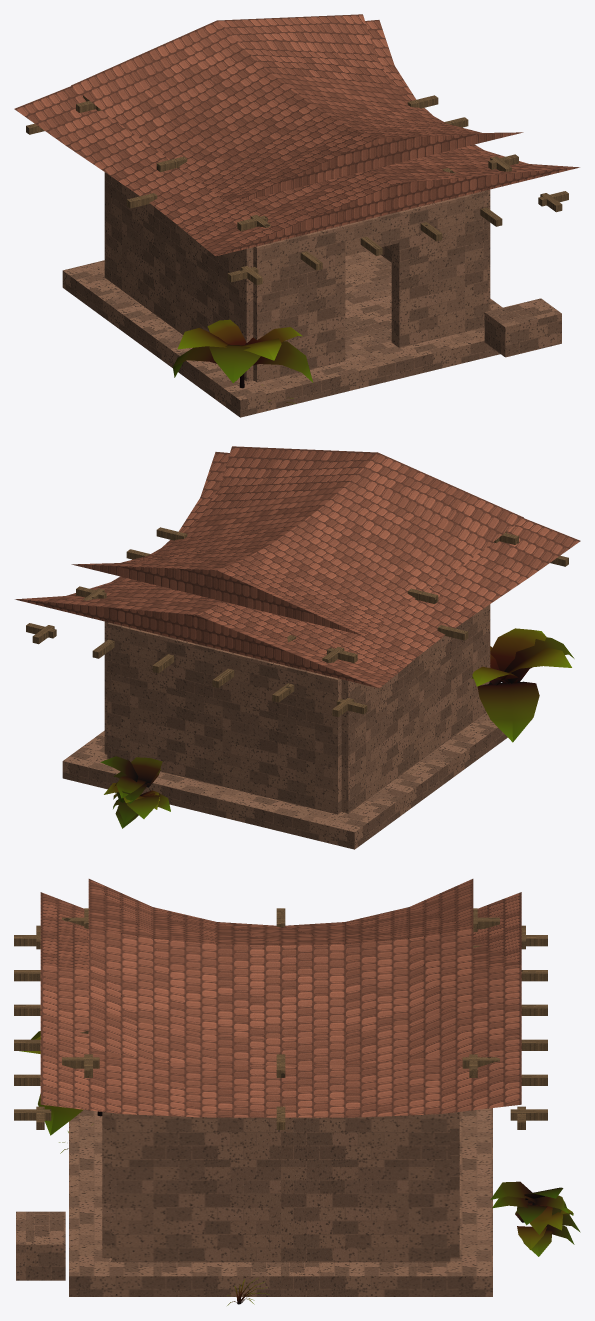
The model's file is chua_01.glb.
3 renders of one model, top to bottom at view 1: azimuth 30°, elevation 25°; view 2: azimuth 150°, elevation 25°; view 3: azimuth 270°, elevation 25°, orthographic. The views are drawn at different scales.
Visible parts, largest first — view 1: chua_01, chua_01_veg_01_banana_a; view 2: chua_01, chua_01_veg_01_banana_a, chua_01_veg_00_bush_b; view 3: chua_01, chua_01_veg_00_bush_b, chua_01_veg_01_banana_a.
Boxes of the visible parts, x1,y1,x2,y2 form: chua_01: (14,14,579,417); chua_01_veg_01_banana_a: (173,319,313,388); chua_01: (15,446,580,849); chua_01_veg_01_banana_a: (471,628,574,742); chua_01_veg_00_bush_b: (100,756,170,828); chua_01: (14,879,547,1296); chua_01_veg_00_bush_b: (490,1181,580,1256); chua_01_veg_01_banana_a: (19,1031,102,1135).
Size of the model in its own units: 7.39 by 4.46 by 8.
6 materials, 6 textured.
